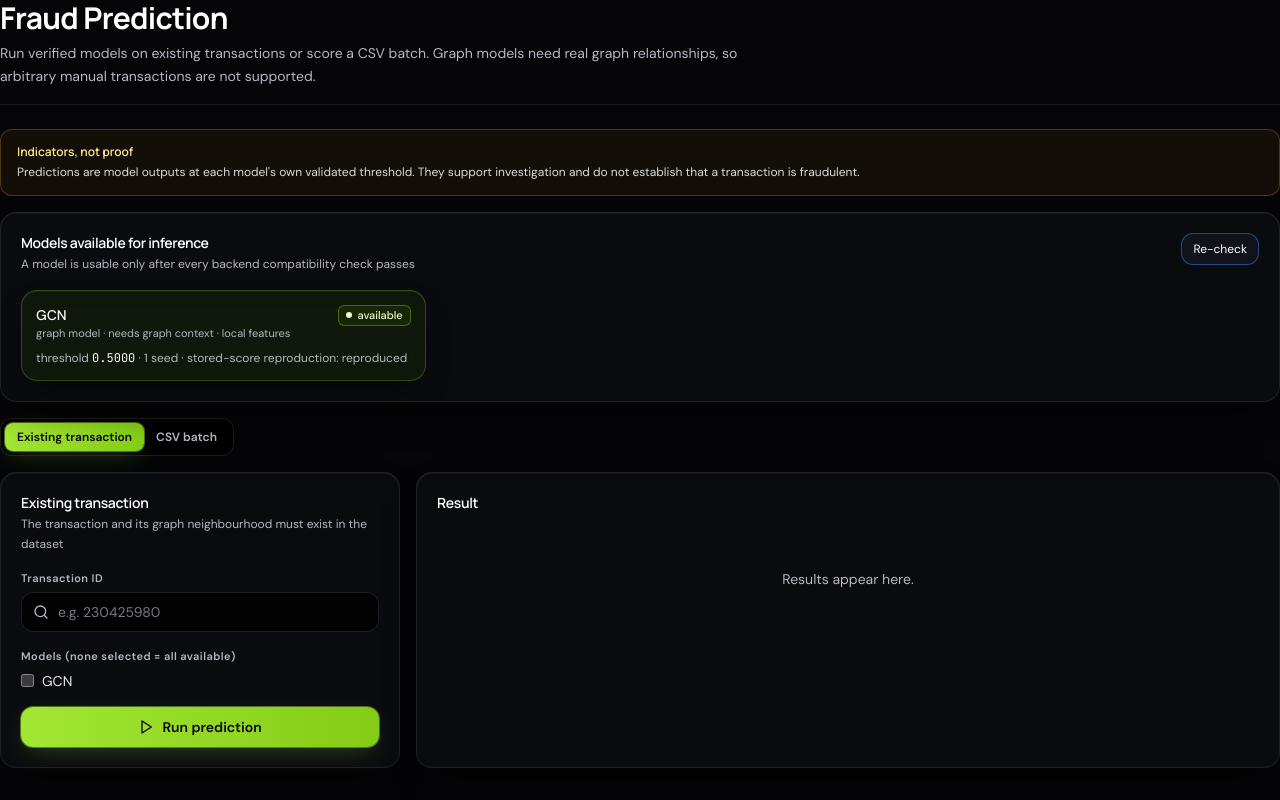
PredictionPage › validates the transaction id client-side
Type "abc" into the field labelled "Transaction ID".
click(200, 612); type("abc")  # box [21,592,379,632]
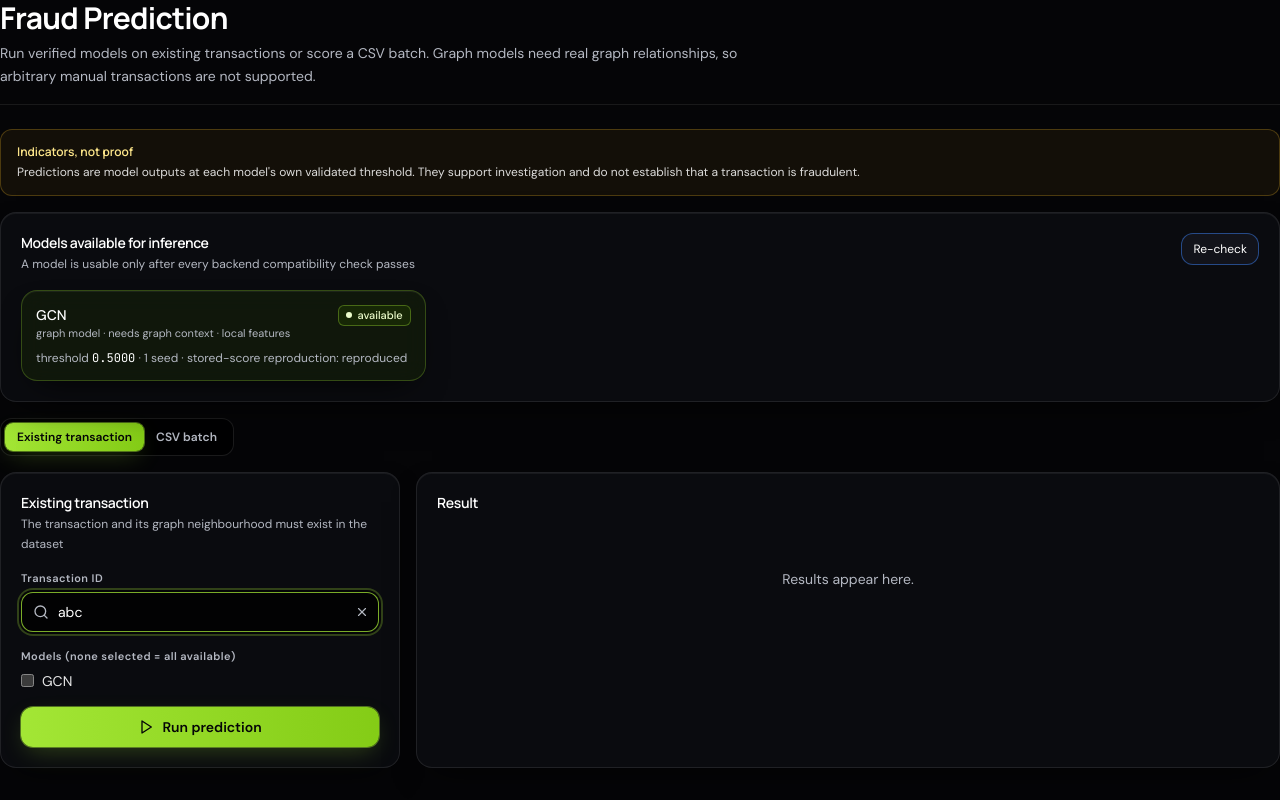
Click the button "Run prediction".
click(200, 726)  # box [21,706,379,746]
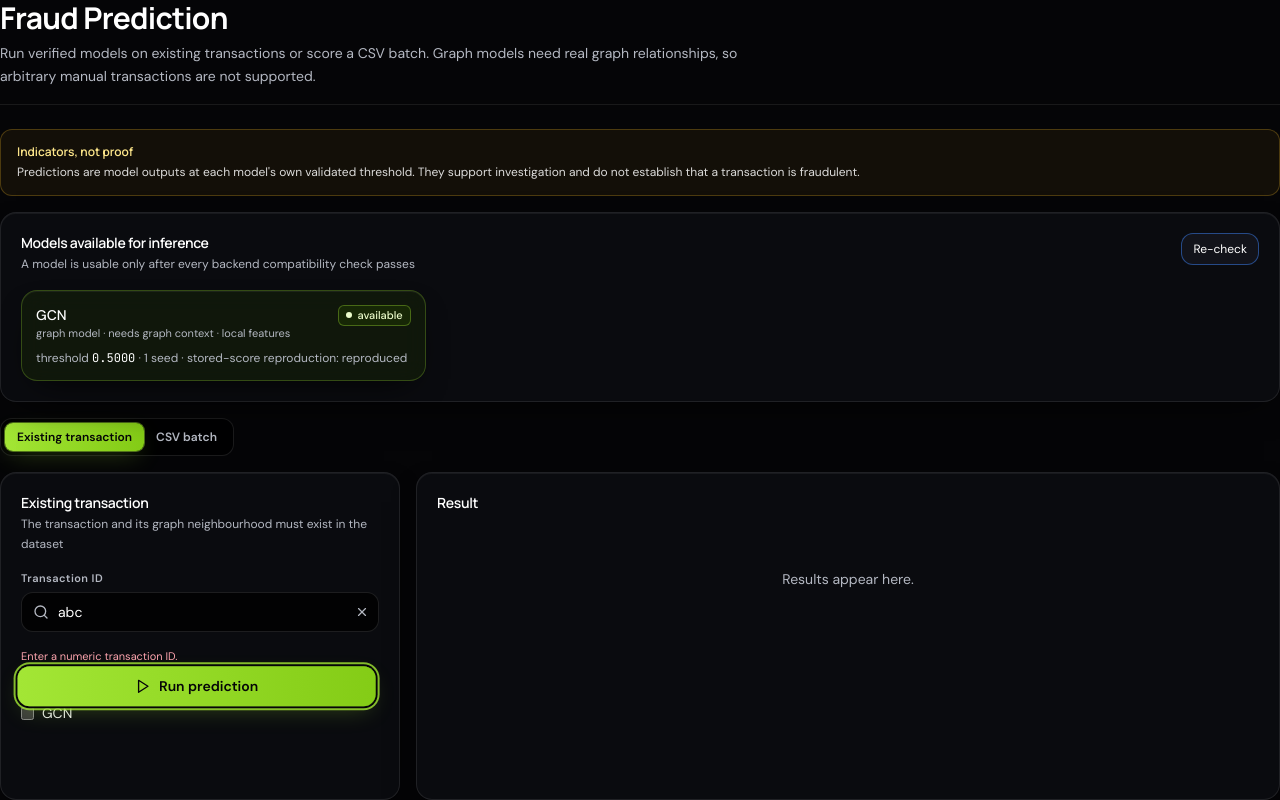
Expected: the message shows "numeric", [21,649,178,663]
